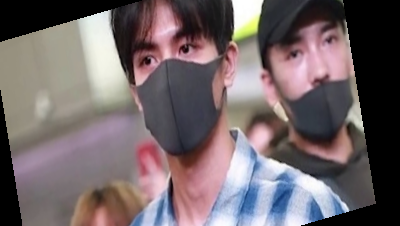mask_weared_incorrect: (250, 2, 369, 144)
